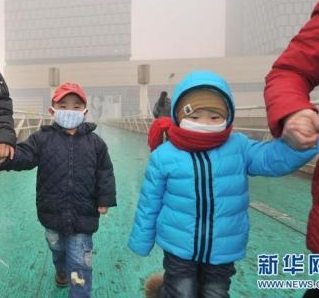person: (131, 68, 259, 297), (1, 81, 115, 297), (261, 3, 319, 263), (1, 74, 17, 175), (153, 89, 174, 119)
